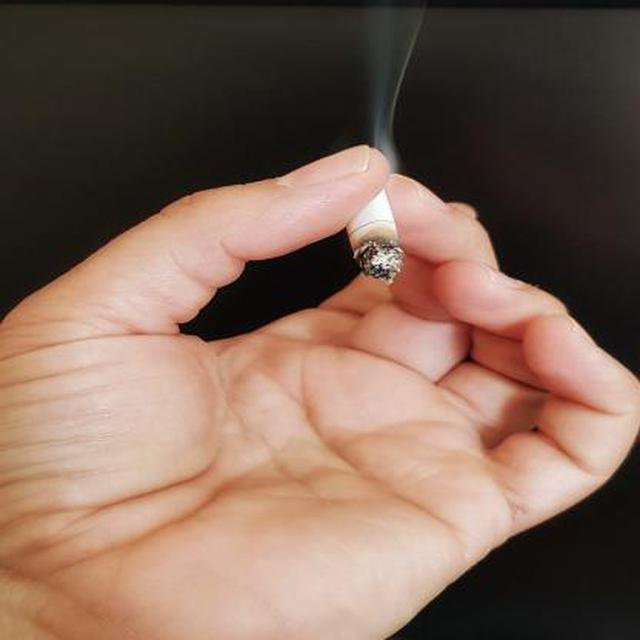smoking: (342, 173, 408, 284)
